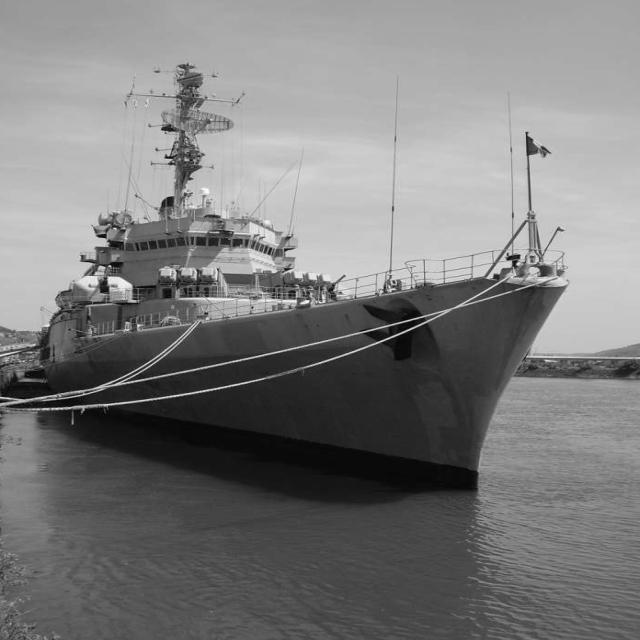Portanaves: (38, 58, 589, 495)
